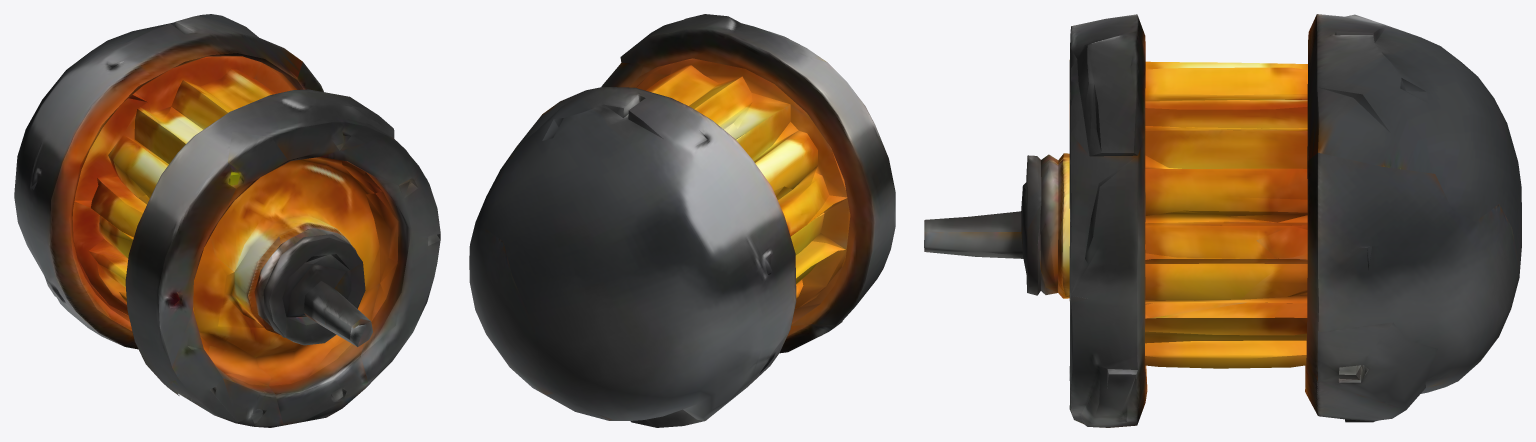
The model's file is m2CoreCapsule.glb.
3 views of the same model, side by side, from view 1: azimuth 30°, elevation 25°; view 2: azimuth 150°, elevation 25°; view 3: azimuth 270°, elevation 25° (orthographic). The views are drawn at different scales.
Visible parts, largest first — view 1: model; view 2: model; view 3: model.
Boxes of the visible parts, x1,y1,x2,y2 form: model: [14, 14, 440, 427]; model: [469, 14, 895, 427]; model: [924, 14, 1521, 427].
Size of the model in its own units: 1.26 by 1.31 by 1.89.
1 material, 1 textured.
